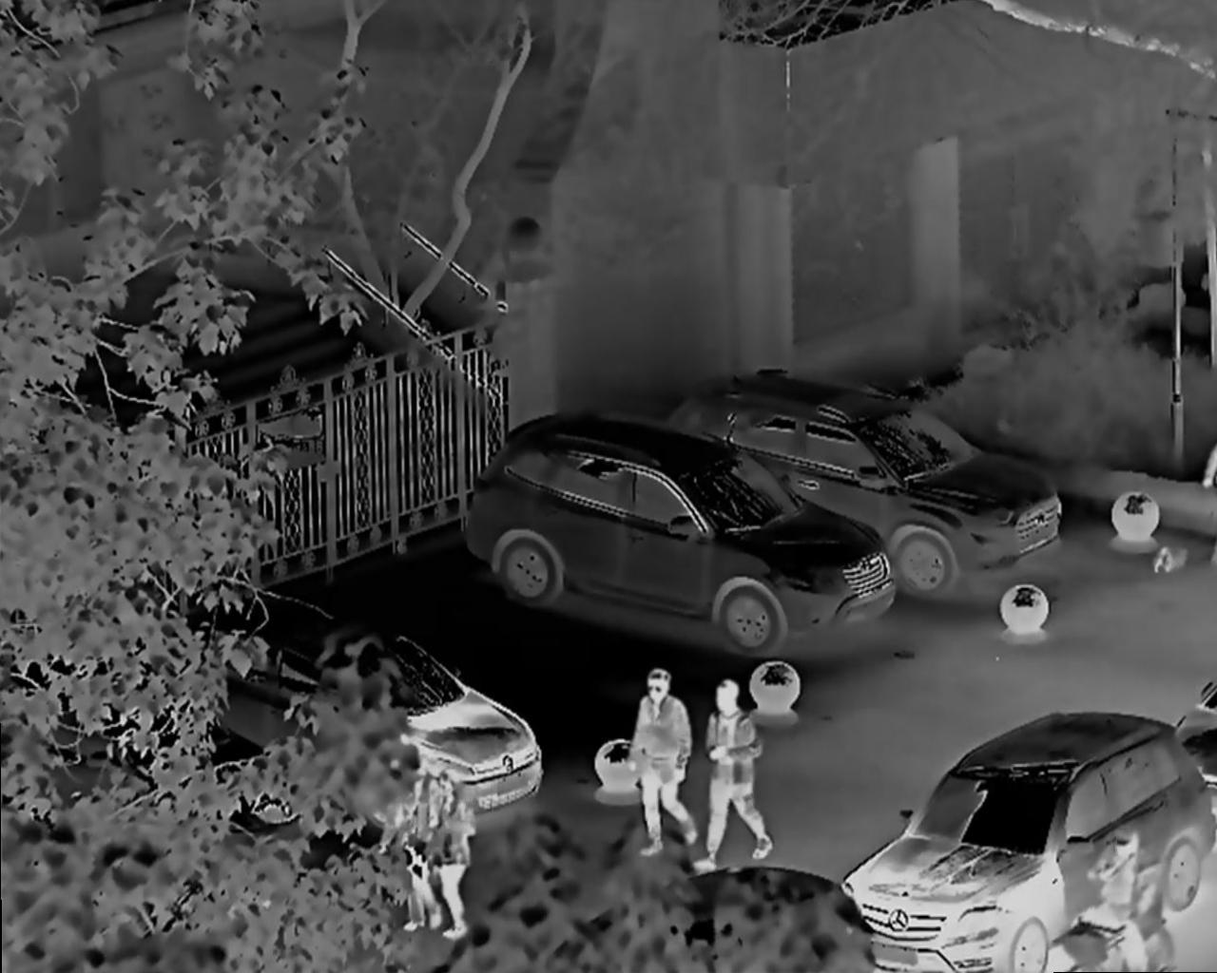person: (704, 674, 796, 866), (628, 650, 710, 842), (407, 755, 493, 926), (1077, 837, 1163, 973)
